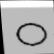no answer: (13, 21, 50, 47)
